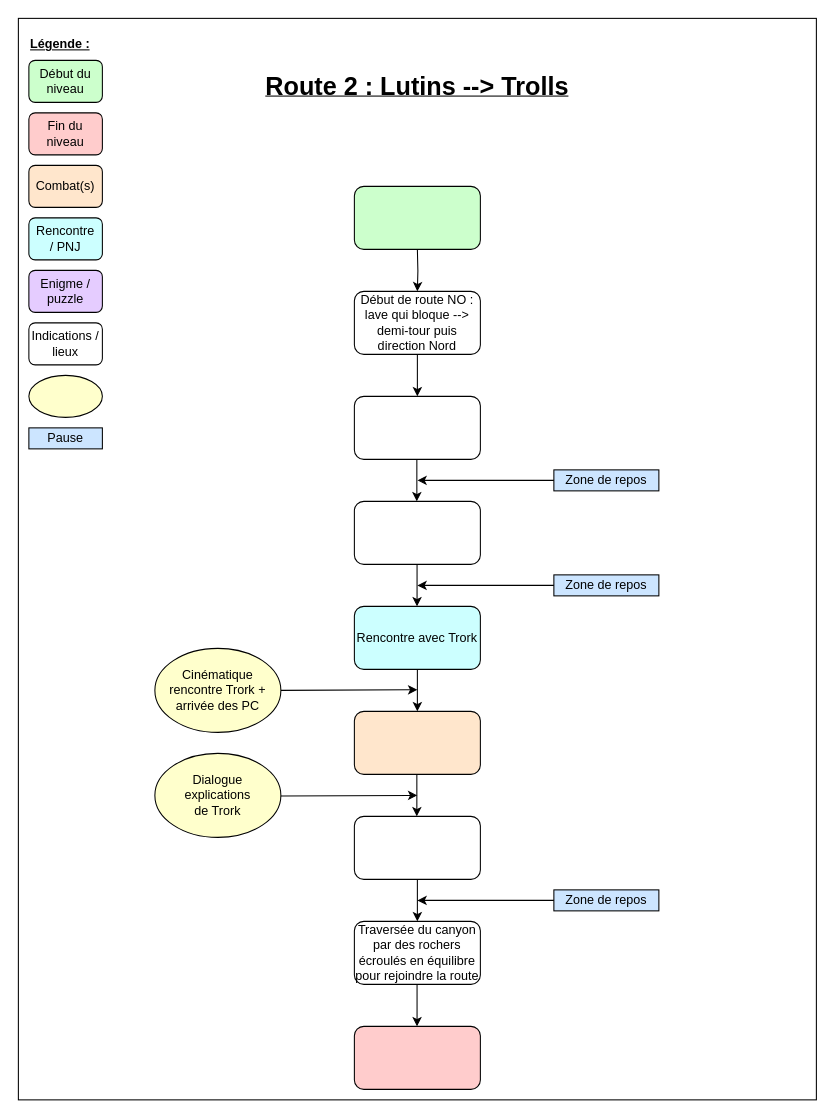
The diagram is 835 pixels wide and 1118 high, and some of its shapes have lost their labels. The shapes that lost their labels are listed below. From the top down, each one's centre as x and y in pixels, then its label:
the point at 416,217: Début du niveau (sortie village lutins)
the point at 65,395: Cinématiques / Dialogues
the point at 416,427: Traversée du pont par dessus le canyon
the point at 416,532: Entrée dans forêt labyrinthique
the point at 416,742: Combat VS embuscade PC + Miniboss
the point at 416,847: Sortie de forêt Labyrinthique
the point at 416,1057: Fin du niveau (Entrée village des Trolls)
